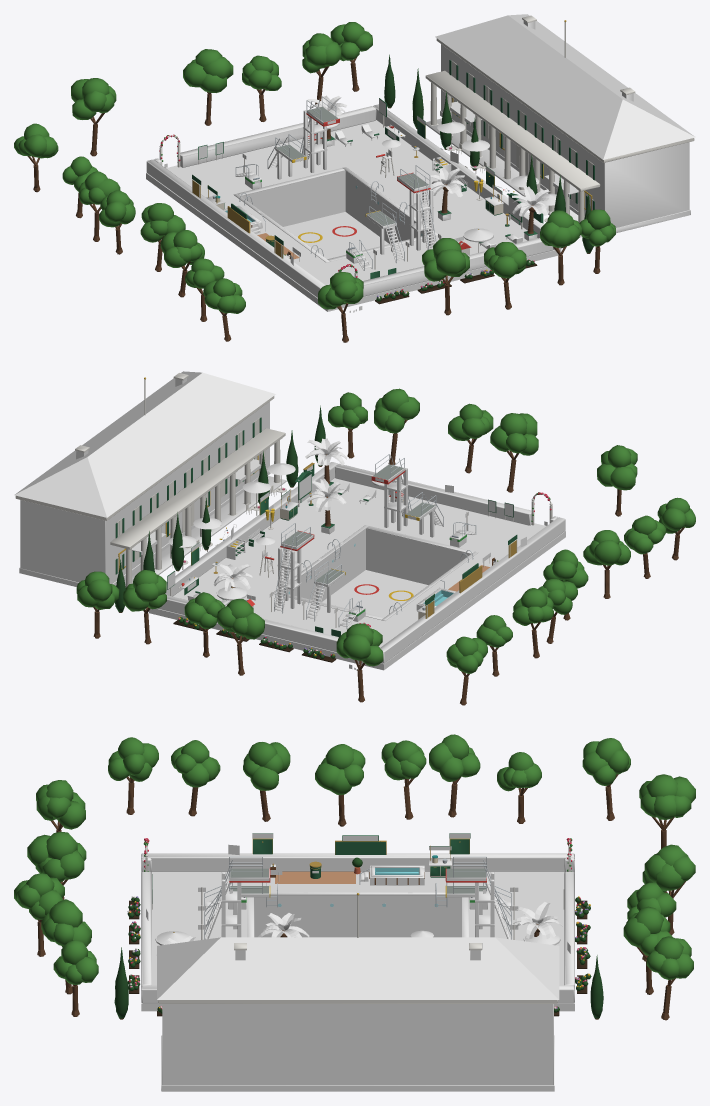
The model's file is dive.glb.
The picture shows the model from 3 angles, top to bottom: view 1: azimuth 30°, elevation 25°; view 2: azimuth 150°, elevation 25°; view 3: azimuth 270°, elevation 25°; orthographic projection. The views are drawn at different scales.
Parts seen in each view (by area): view 1: S_matte, S_tile_travertine, S_tile_rooftile, S_satin, S_tile_stucco, S_tile_hedge, S_tile_mosaic, S_tile_concrete, S_tile_marble, S_cut, S_metal, S_tile_awning (+3 smaller); view 2: S_matte, S_tile_travertine, S_tile_rooftile, S_satin, S_tile_stucco, S_tile_hedge, S_tile_mosaic, S_tile_concrete, S_tile_marble, S_cut, S_metal, S_tile_awning (+3 smaller); view 3: S_matte, S_tile_stucco, S_tile_rooftile, S_tile_travertine, S_tile_hedge, S_tile_mosaic, S_tile_concrete, S_satin, S_cut, S_metal, S_tile_marble, S_leaf (+5 smaller).
Boxes of the visible parts, <box> form: S_matte: <box>14,22,615,342</box>; S_tile_travertine: <box>146,120,561,311</box>; S_tile_rooftile: <box>435,14,695,159</box>; S_satin: <box>159,15,694,298</box>; S_tile_stucco: <box>441,21,689,227</box>; S_tile_hedge: <box>146,104,560,297</box>; S_tile_mosaic: <box>225,172,428,250</box>; S_tile_concrete: <box>235,107,690,270</box>; S_tile_marble: <box>206,118,581,262</box>; S_cut: <box>164,95,550,312</box>; S_metal: <box>192,20,592,270</box>; S_tile_awning: <box>309,101,578,242</box>; S_matte: <box>76,388,695,705</box>; S_tile_travertine: <box>149,478,565,670</box>; S_tile_rooftile: <box>14,371,275,517</box>; S_satin: <box>15,373,552,655</box>; S_tile_stucco: <box>20,378,269,583</box>; S_tile_hedge: <box>158,462,565,663</box>; S_tile_mosaic: <box>282,530,468,608</box>; S_tile_concrete: <box>19,464,475,628</box>; S_tile_marble: <box>116,476,478,620</box>; S_cut: <box>213,438,547,670</box>; S_metal: <box>118,377,516,628</box>; S_tile_awning: <box>132,459,401,600</box>; S_matte: <box>14,734,695,1020</box>; S_tile_stucco: <box>162,950,553,1085</box>; S_tile_rooftile: <box>157,937,559,999</box>; S_tile_travertine: <box>141,871,574,1011</box>; S_tile_hedge: <box>141,853,574,1003</box>; S_tile_mosaic: <box>254,868,461,937</box>; S_tile_concrete: <box>161,868,554,1091</box>; S_satin: <box>127,833,590,1009</box>; S_cut: <box>146,844,570,953</box>; S_metal: <box>173,838,511,939</box>; S_tile_marble: <box>247,859,468,937</box>; S_leaf: <box>127,838,591,1013</box>.
Size of what is drawn, in the model's own units: 52.8 by 18.33 by 52.22.
